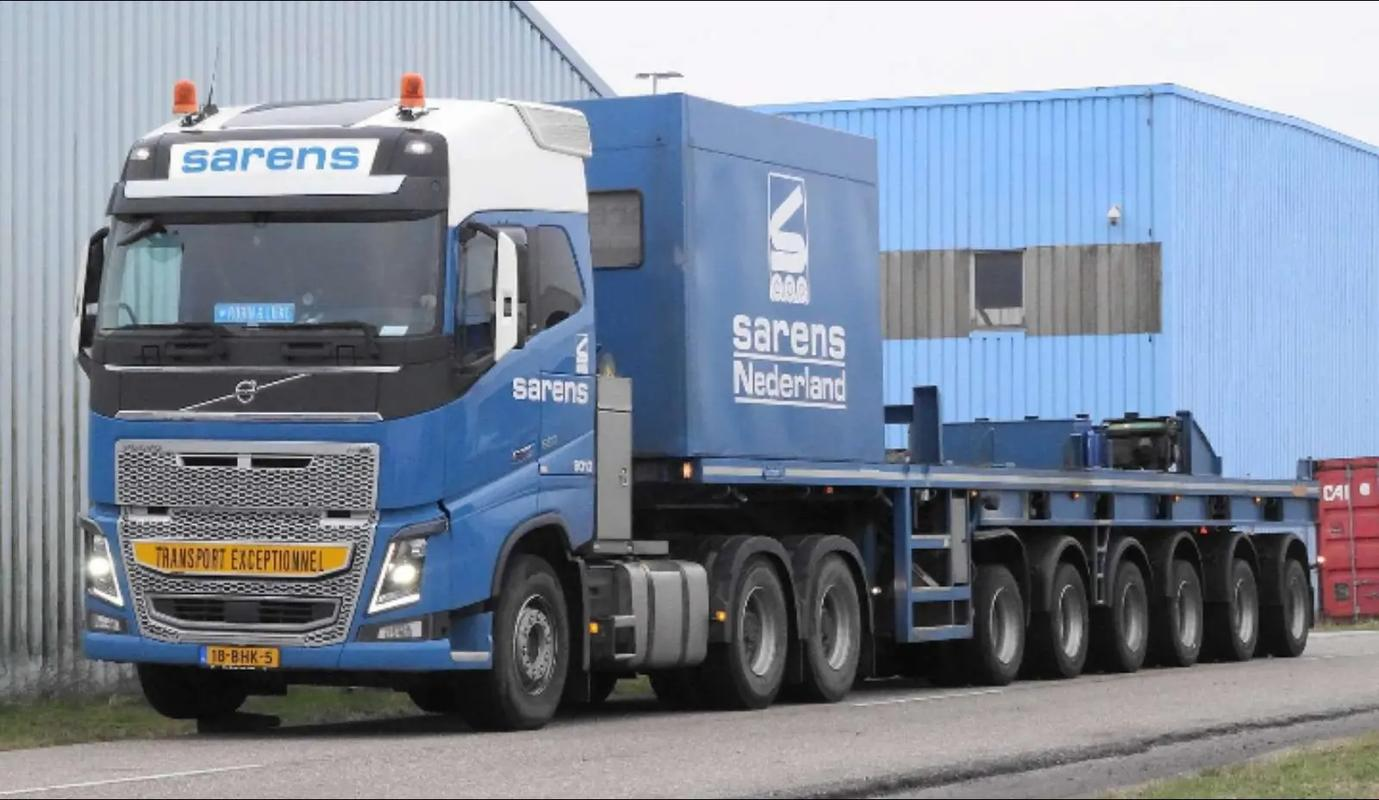卡车: (69, 89, 1333, 694)
